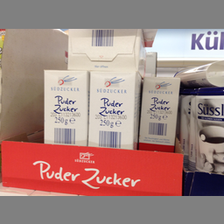sugar: (89, 71, 141, 151), (42, 68, 89, 147), (139, 76, 180, 152)
